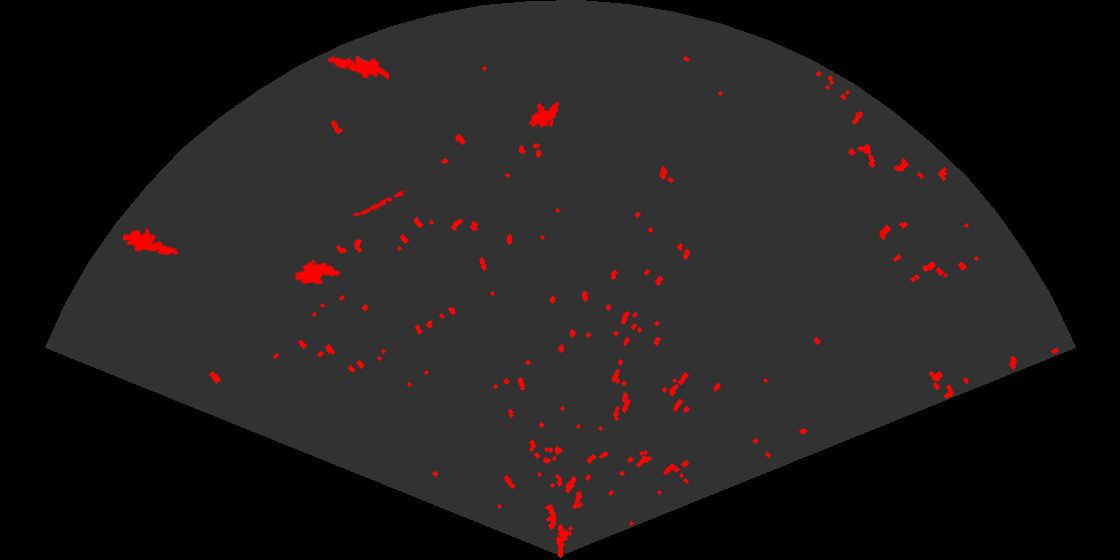AUV: (293, 260, 342, 286), (527, 100, 561, 129)
chain: (350, 187, 408, 219)
frogman: (123, 226, 180, 256), (326, 54, 389, 81)
